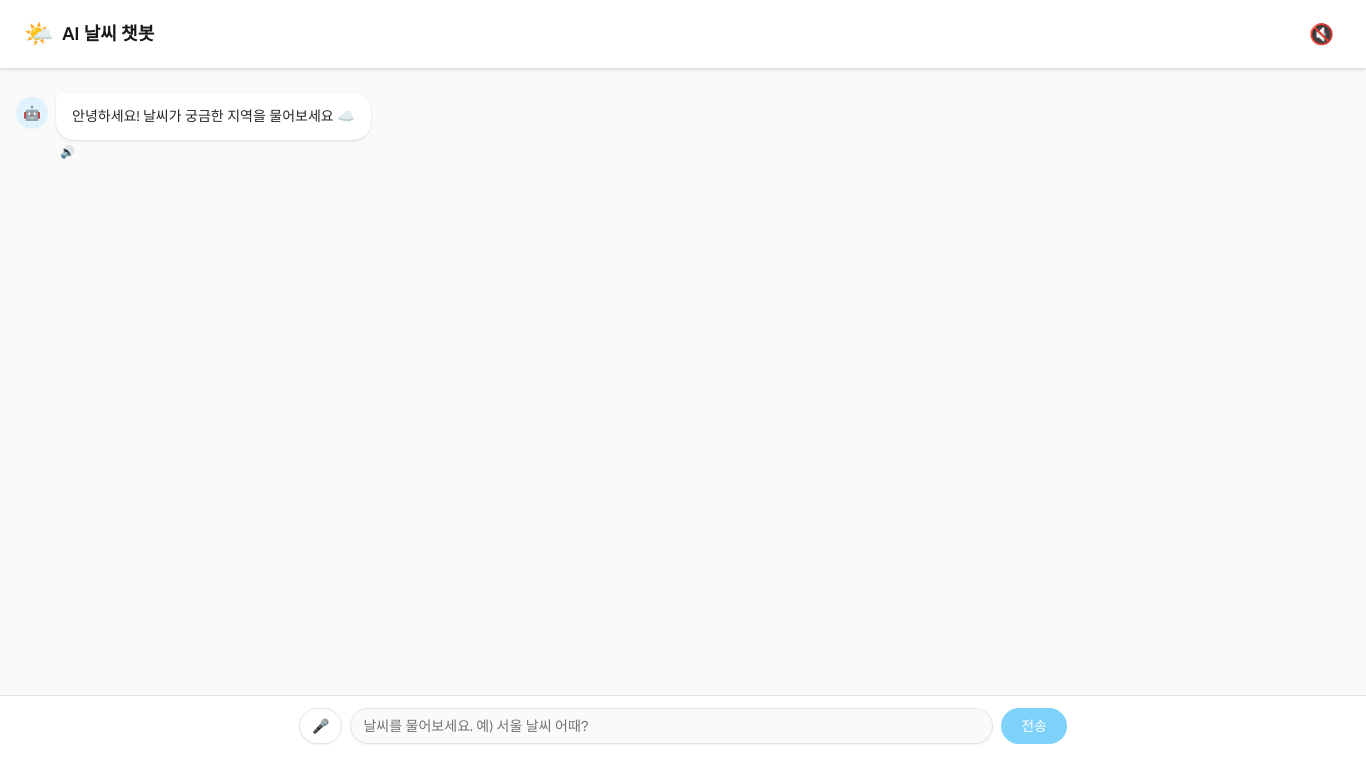
Test: 채팅 UI › 메시지 입력 후 전송하면 사용자 메시지가 표시된다
This screenshot has width=1366, height=768.
Type "서울 날씨" into the field with placeholder "날씨를 물어보세요. 예) 서울 날씨 어때?" at point(672, 726), box [350, 708, 993, 744]
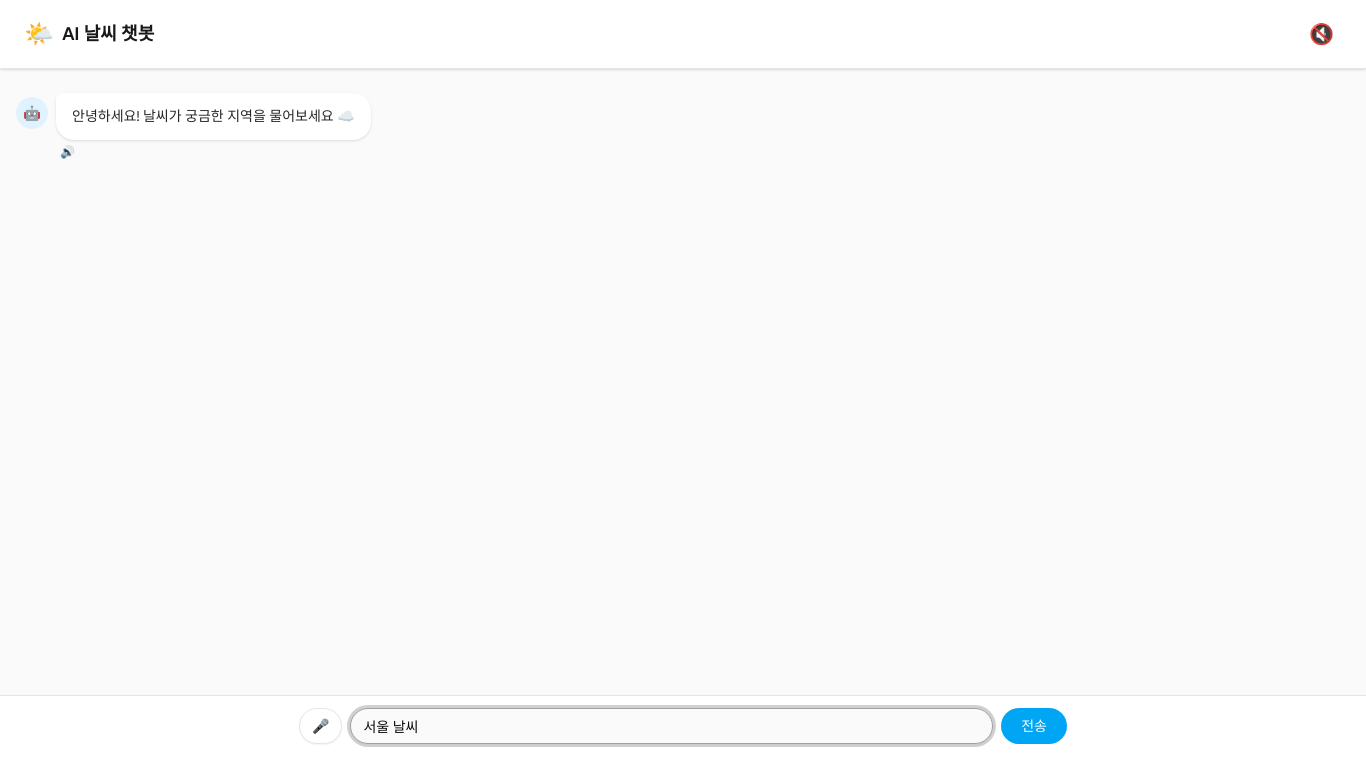
Click the button "전송" at point(1034, 726), box [1001, 708, 1067, 744]
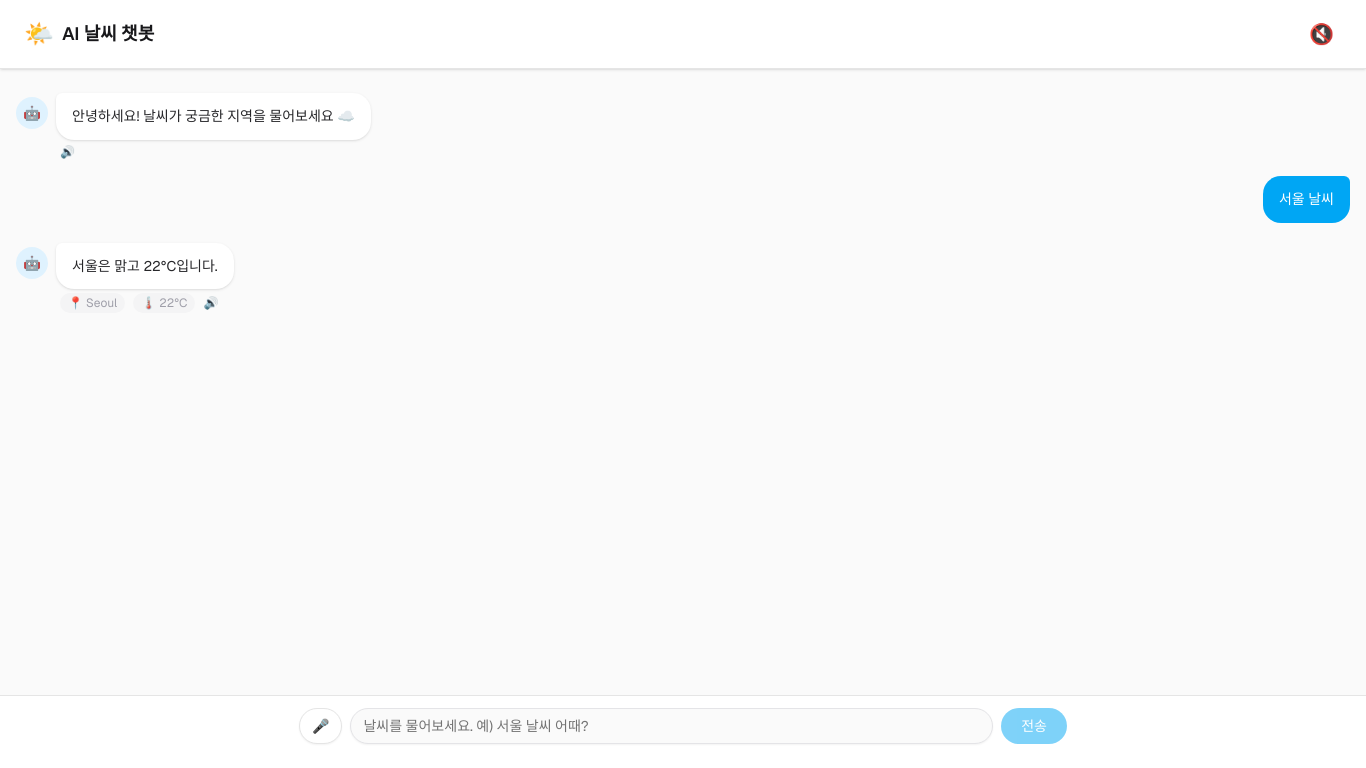
Expected: the text "서울 날씨" is shown, [1263, 176, 1350, 223]
